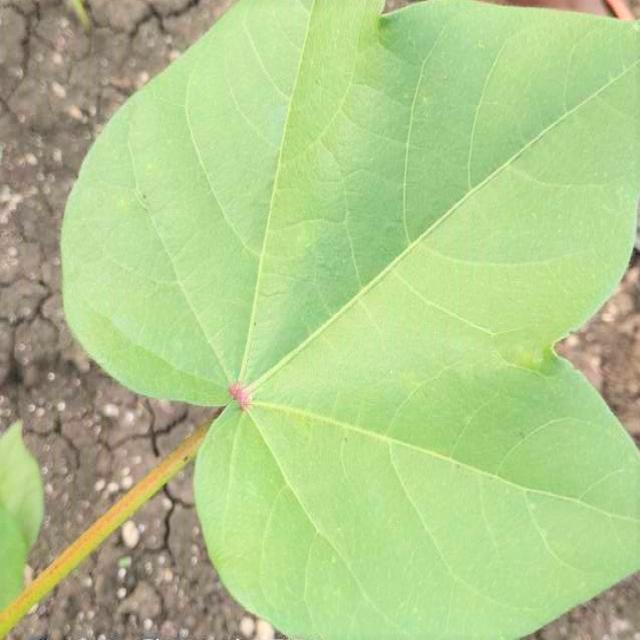Healthy Leaf: (226, 117, 512, 543)
